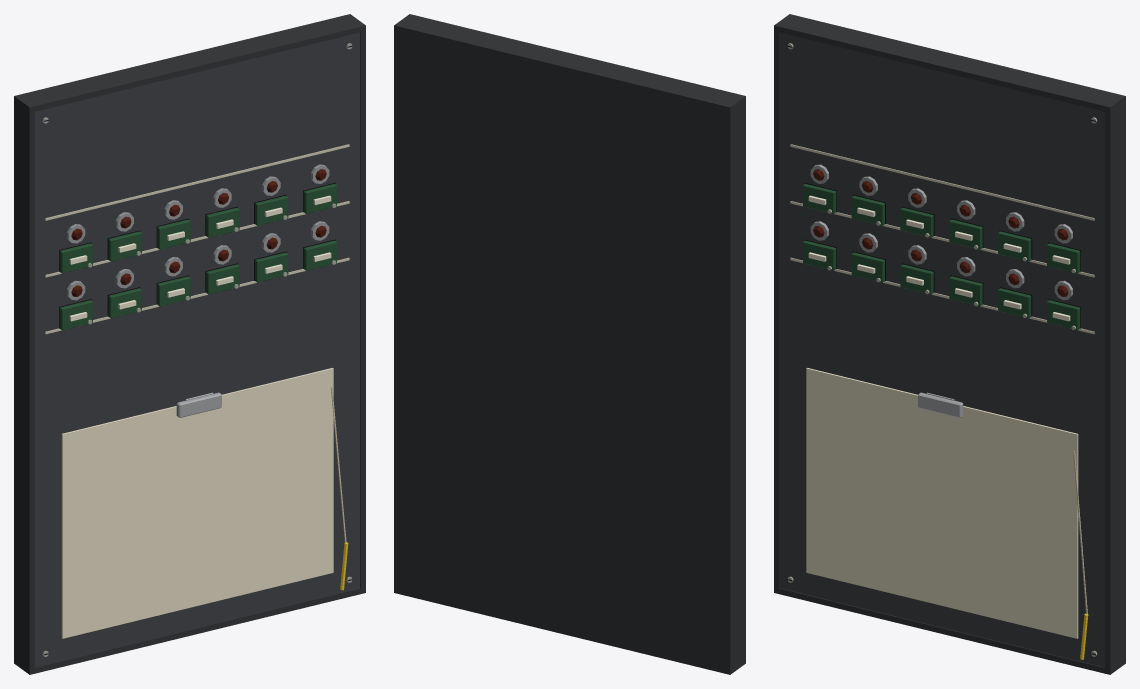
Rendered from room.line-rack.glb.
The picture shows the model from 3 angles, left to right: view 1: azimuth 30°, elevation 25°; view 2: azimuth 150°, elevation 25°; view 3: azimuth 330°, elevation 25°; orthographic projection.
Visible parts, largest first — view 1: face, tally, side-1, cap1, side1, back, cap-1, rule0, tally-clip, card-03, card-04, card-02 (+9 smaller); view 2: back, side-1, cap1, side1, cap-1; view 3: face, tally, side1, cap1, side-1, back, cap-1, rule0, tally-clip, card-04, card-11, card-05 (+9 smaller).
Part boxes in pixels (<box>): face: <box>35,32,359,667</box>; tally: <box>61,368,333,638</box>; side-1: <box>14,96,34,674</box>; cap1: <box>14,14,365,111</box>; side1: <box>360,25,365,593</box>; back: <box>14,16,351,665</box>; cap-1: <box>31,587,365,673</box>; rule0: <box>45,144,349,220</box>; tally-clip: <box>176,392,221,417</box>; card-03: <box>157,219,190,249</box>; card-04: <box>206,207,239,237</box>; card-02: <box>108,231,141,261</box>; back: <box>394,23,733,674</box>; side-1: <box>725,96,745,674</box>; cap1: <box>394,14,745,112</box>; side1: <box>394,20,404,593</box>; cap-1: <box>394,587,744,671</box>; face: <box>780,32,1104,667</box>; tally: <box>806,368,1078,638</box>; side1: <box>1105,96,1125,674</box>; cap1: <box>774,14,1125,111</box>; side-1: <box>774,25,779,593</box>; back: <box>787,16,1125,665</box>; cap-1: <box>774,587,1125,673</box>; rule0: <box>790,144,1094,220</box>; tally-clip: <box>918,392,963,417</box>; card-04: <box>949,219,982,249</box>; card-11: <box>998,288,1031,318</box>; card-05: <box>998,231,1031,261</box>.
Size of the model in its own units: 0.62 by 1 by 0.061.
